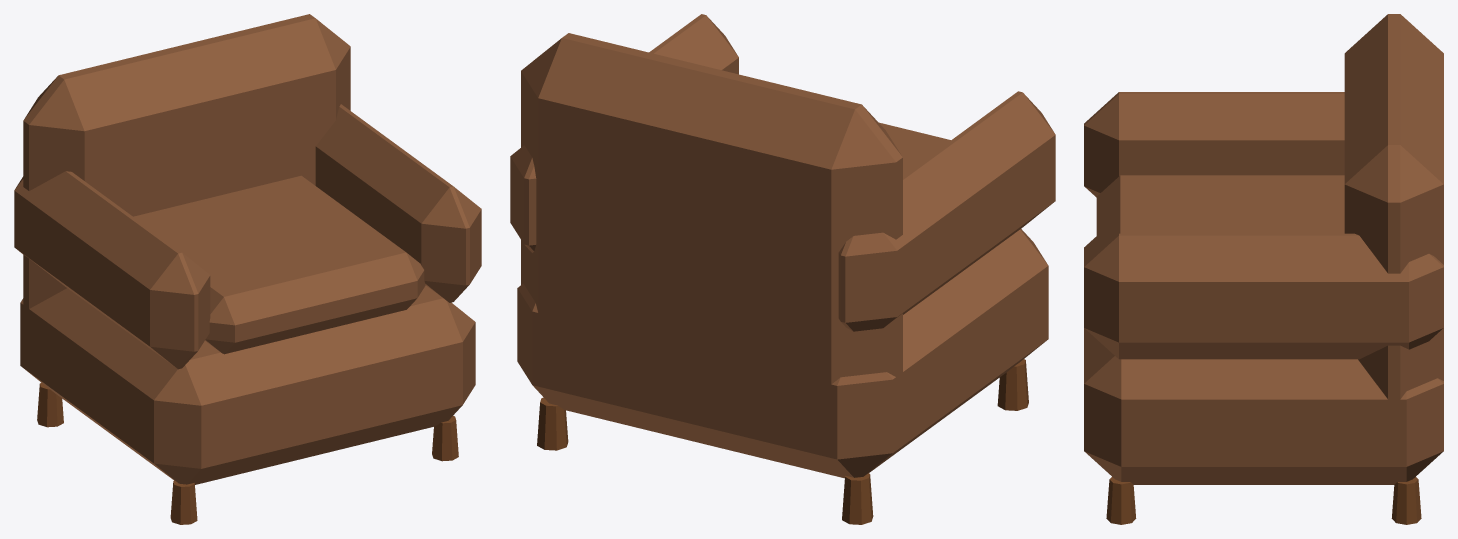
The model's file is BrownArmchair.fbx.
3 renders of one model, left to right at view 1: azimuth 30°, elevation 25°; view 2: azimuth 150°, elevation 25°; view 3: azimuth 270°, elevation 25°, orthographic. The views are drawn at different scales.
Parts seen in each view (by area): view 1: BrownArmchair; view 2: BrownArmchair; view 3: BrownArmchair.
Boxes of the visible parts, <box> form: BrownArmchair: <box>14,14,481,524</box>; BrownArmchair: <box>510,14,1055,524</box>; BrownArmchair: <box>1084,14,1443,524</box>.
Size of the model in its own units: 3.3 by 3.3 by 2.9.
1 material, 1 textured.
